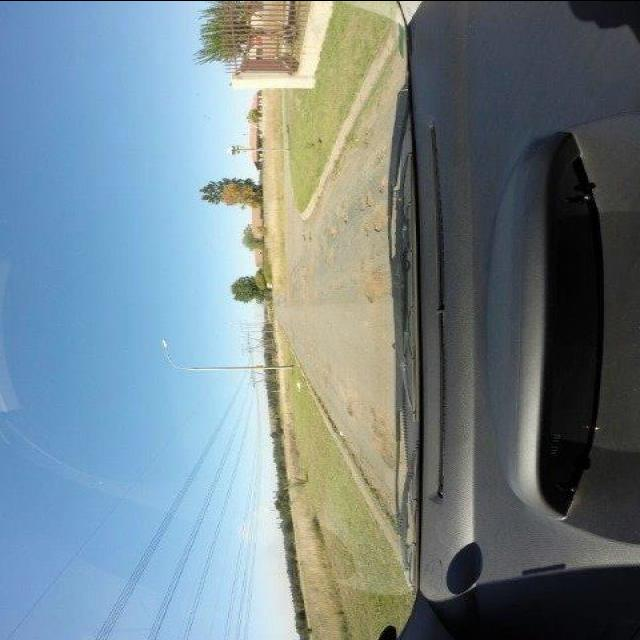lubang: (361, 406, 407, 468), (358, 271, 392, 305), (358, 209, 396, 238), (336, 397, 362, 420)
